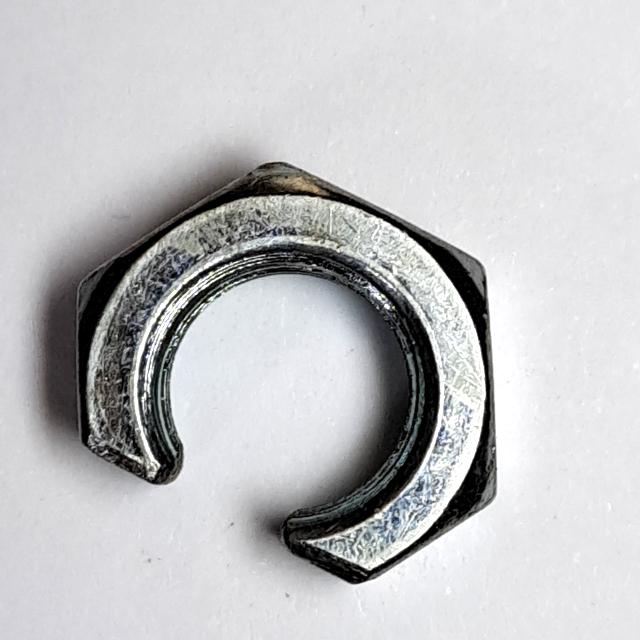Fracture: (62, 147, 511, 595)
